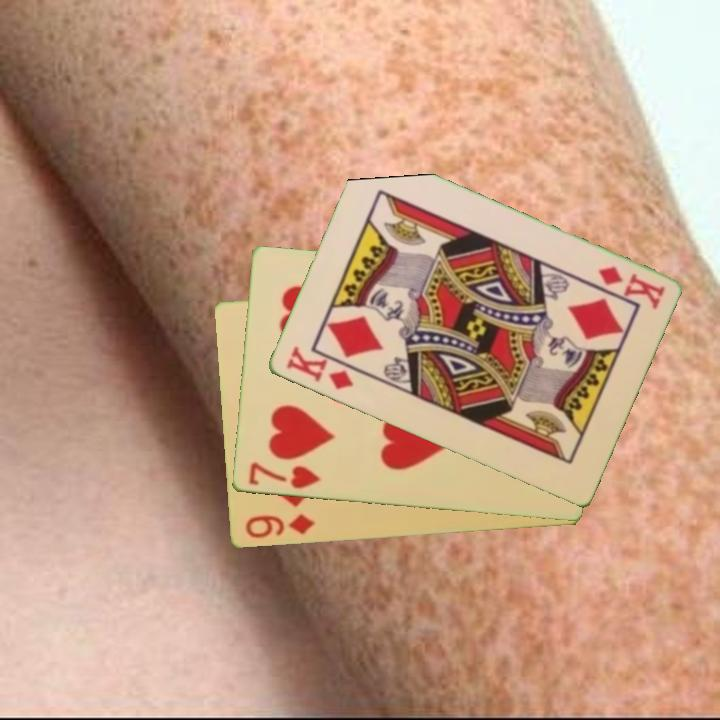7h: (244, 459, 323, 492)
9d: (241, 511, 317, 541)
Kd: (282, 342, 356, 393), (594, 262, 667, 312)
